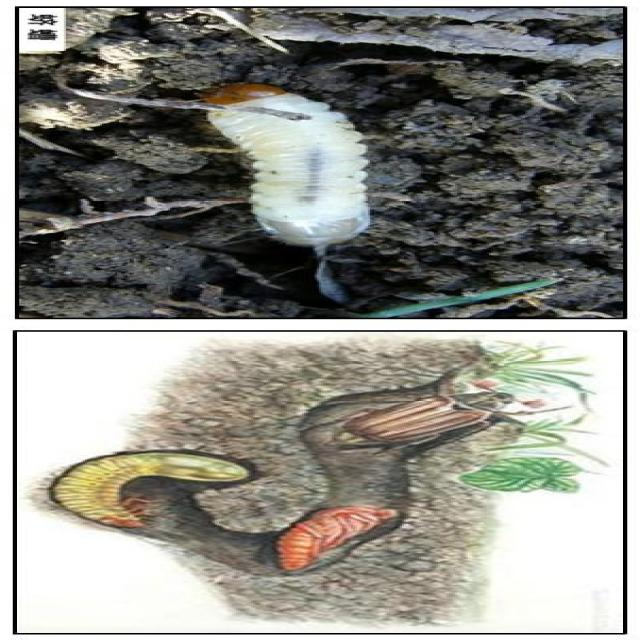grub: (224, 87, 390, 257), (73, 447, 269, 531), (324, 389, 516, 451), (268, 506, 419, 578)
